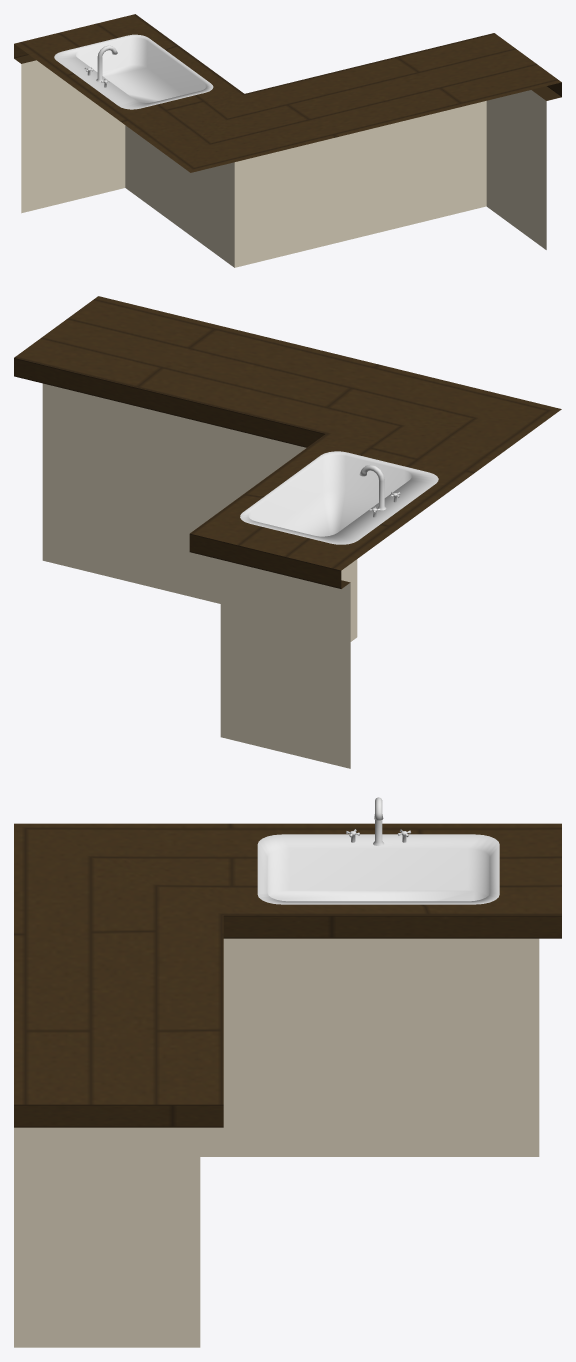
File: counter 1.fbx
The picture shows the model from 3 angles, top to bottom: view 1: azimuth 30°, elevation 25°; view 2: azimuth 150°, elevation 25°; view 3: azimuth 270°, elevation 25°; orthographic projection. The views are drawn at different scales.
Parts seen in each view (by area): view 1: counter, counterTop, counterSink; view 2: counter, counterTop, counterSink; view 3: counter, counterTop, counterSink.
Part boxes in pixels (bbox=[...]): counter: bbox=[21, 60, 546, 267]; counterTop: bbox=[14, 14, 561, 172]; counterSink: bbox=[54, 34, 213, 109]; counter: bbox=[42, 383, 357, 768]; counterTop: bbox=[14, 296, 561, 588]; counterSink: bbox=[240, 451, 438, 544]; counter: bbox=[14, 938, 539, 1347]; counterTop: bbox=[14, 823, 561, 1127]; counterSink: bbox=[257, 797, 499, 904].
Size of the model in its own units: 143 by 72.35 by 118.
